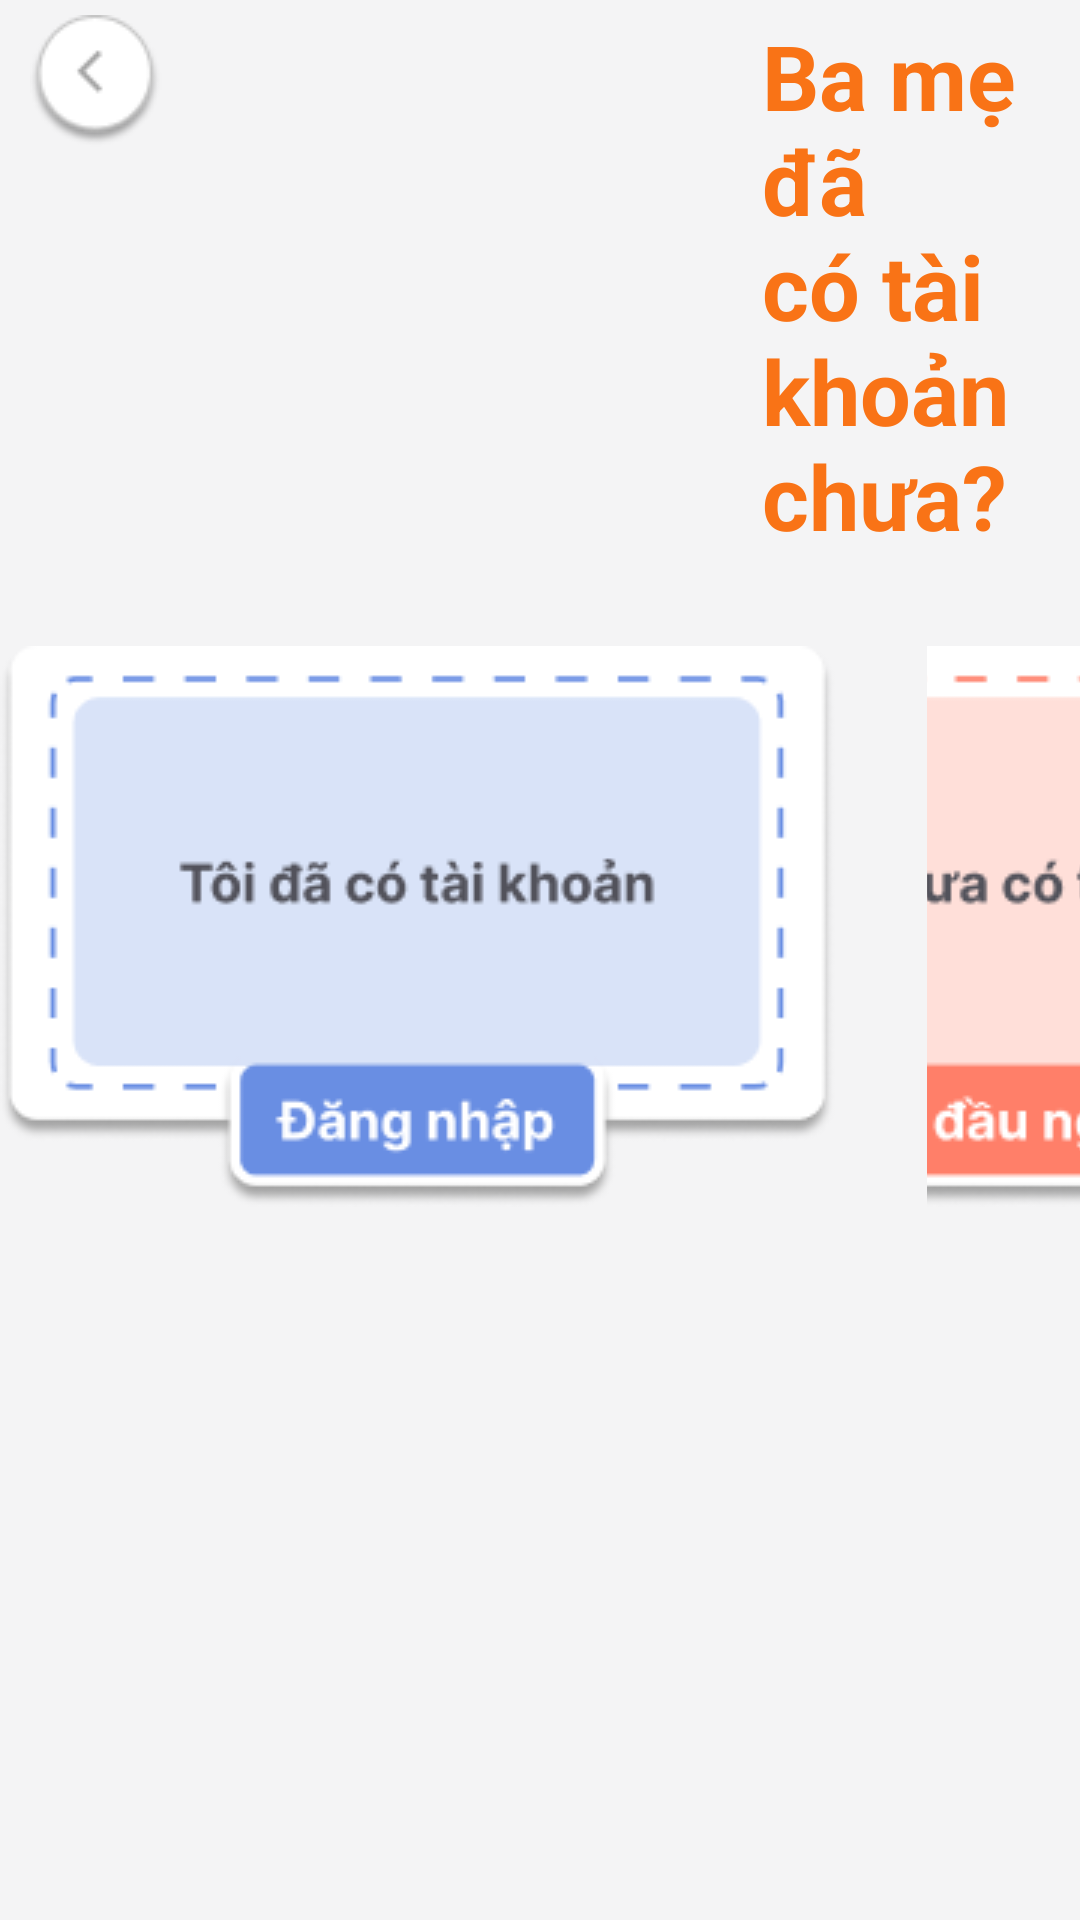

Icon click points for this 1080 x 1920 phone screenshot, format (x=x, y=y):
exit: (x=95, y=78)
